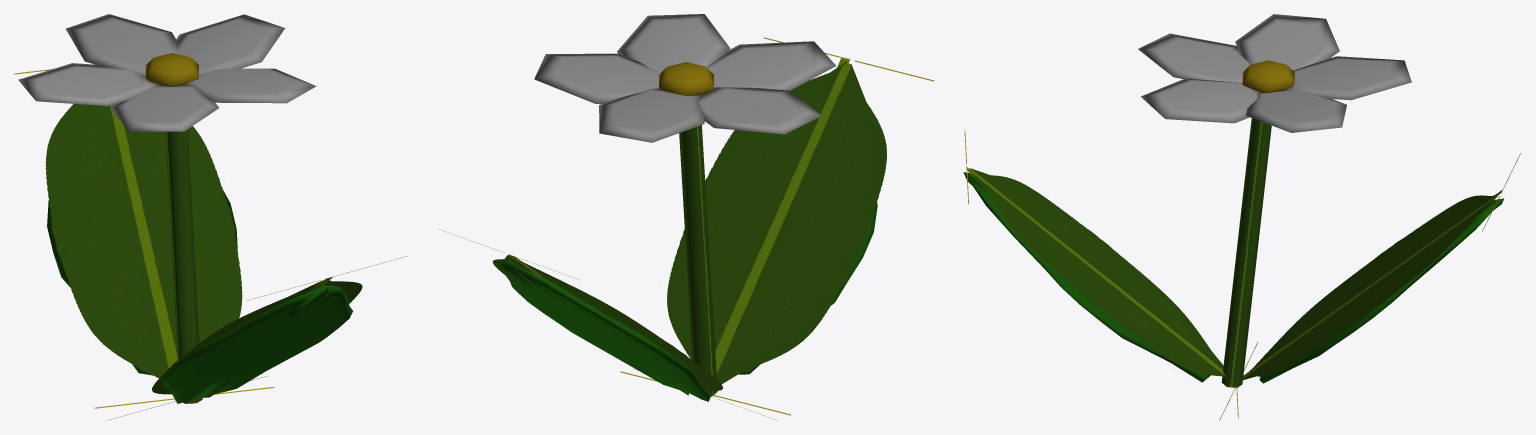
Rendered from flower.glb.
3 renders of one model, left to right at view 1: azimuth 30°, elevation 25°; view 2: azimuth 150°, elevation 25°; view 3: azimuth 270°, elevation 25°, orthographic. The views are drawn at different scales.
Visible parts, largest first — view 1: Merged batch 1; view 2: Merged batch 1; view 3: Merged batch 1.
Boxes of the visible parts, bbox=[...] form: Merged batch 1: bbox=[14, 14, 407, 420]; Merged batch 1: bbox=[438, 14, 934, 420]; Merged batch 1: bbox=[963, 14, 1520, 420].
Size of the model in its own units: 0.7587 by 0.9004 by 1.42.
1 material, 1 textured.
